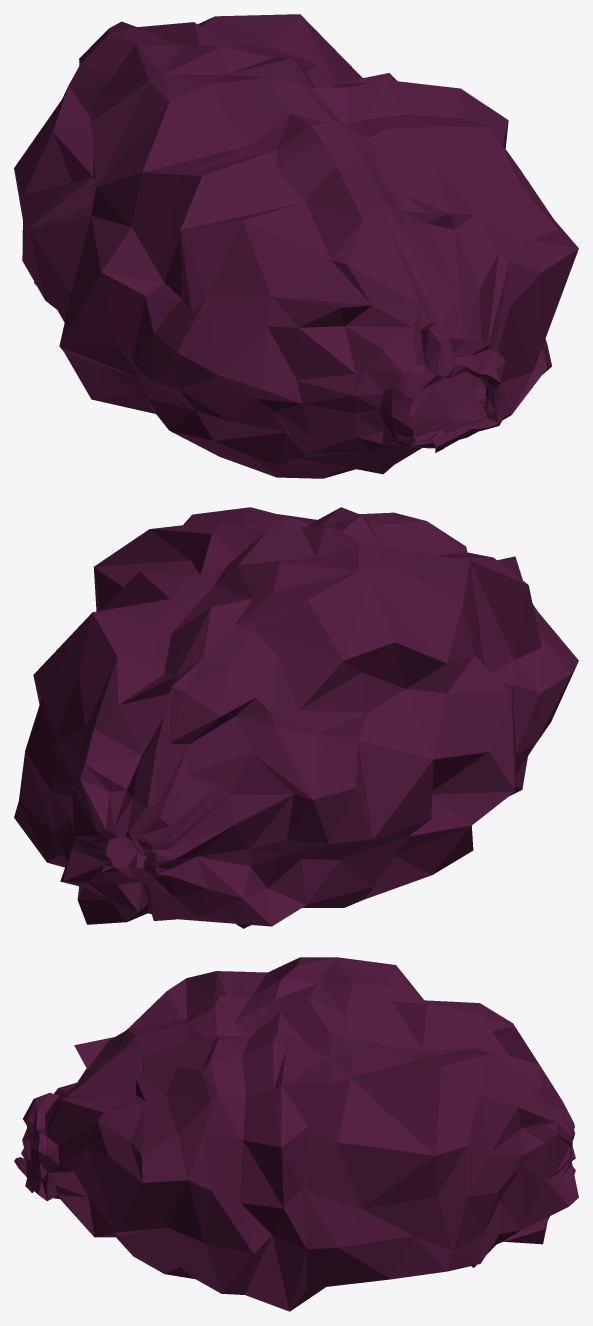
The model's file is limits2.fbx.
3 renders of one model, top to bottom at view 1: azimuth 30°, elevation 25°; view 2: azimuth 150°, elevation 25°; view 3: azimuth 270°, elevation 25°, orthographic. The views are drawn at different scales.
Visible parts, largest first — view 1: limits; view 2: limits; view 3: limits.
Boxes of the visible parts, x1,y1,x2,y2 form: limits: [14, 14, 578, 478]; limits: [14, 507, 578, 928]; limits: [14, 957, 578, 1311].
Bounding box in the file's own units: 56 × 43.05 × 80.8.
